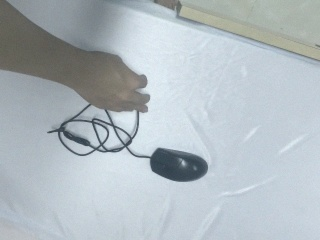mouse: (149, 146, 208, 183)
